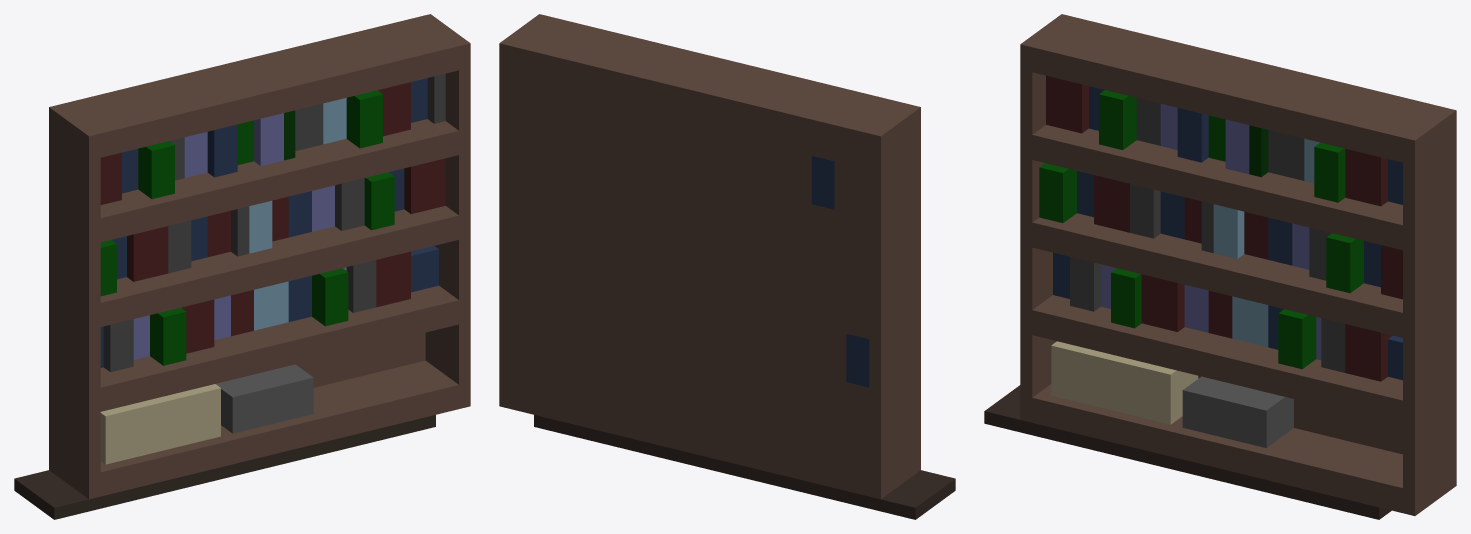
The model's file is old peopl's room-1.obj.
3 renders of one model, left to right at view 1: azimuth 30°, elevation 25°; view 2: azimuth 150°, elevation 25°; view 3: azimuth 330°, elevation 25°, orthographic. The views are drawn at different scales.
Bounding box in the file's own units: 3.6 × 3.1 × 0.6.
Materials: 1 (1 with a texture image).
